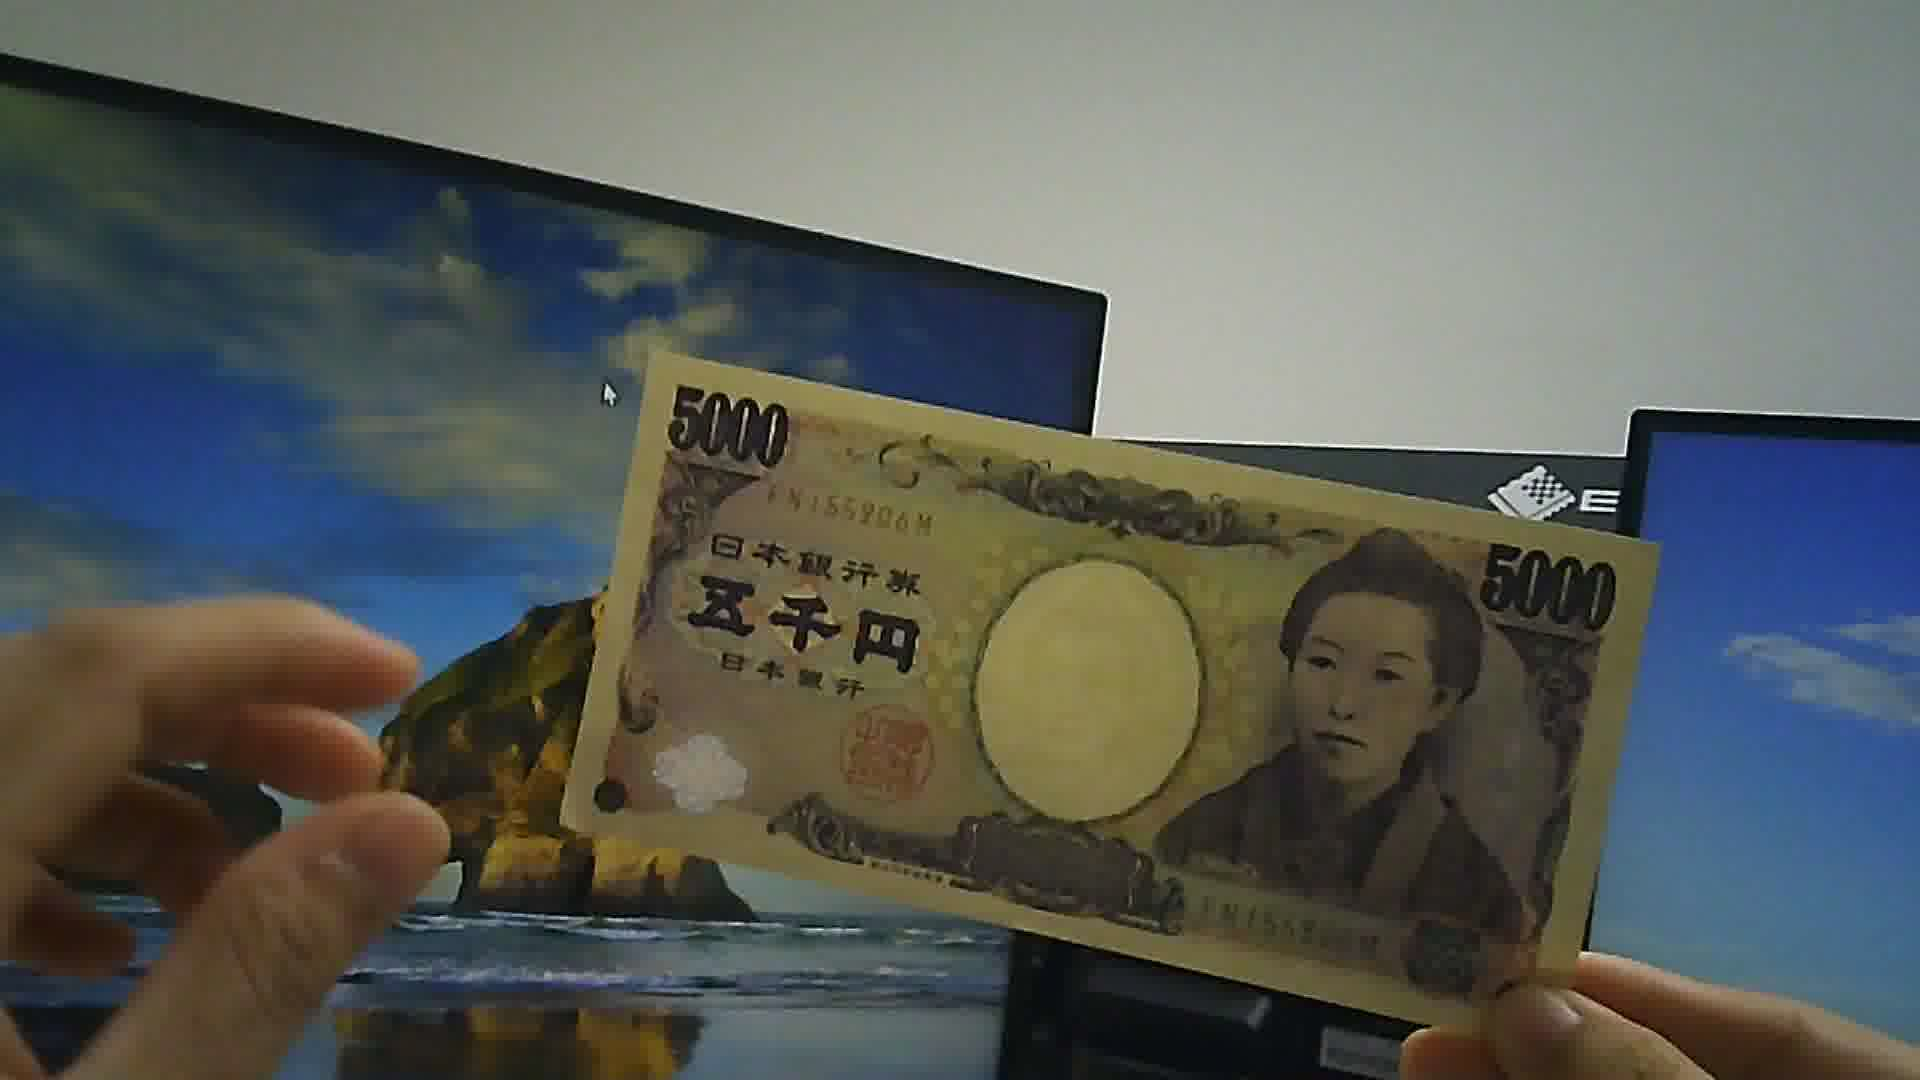5,000 Yen: (595, 347, 1650, 1072)
